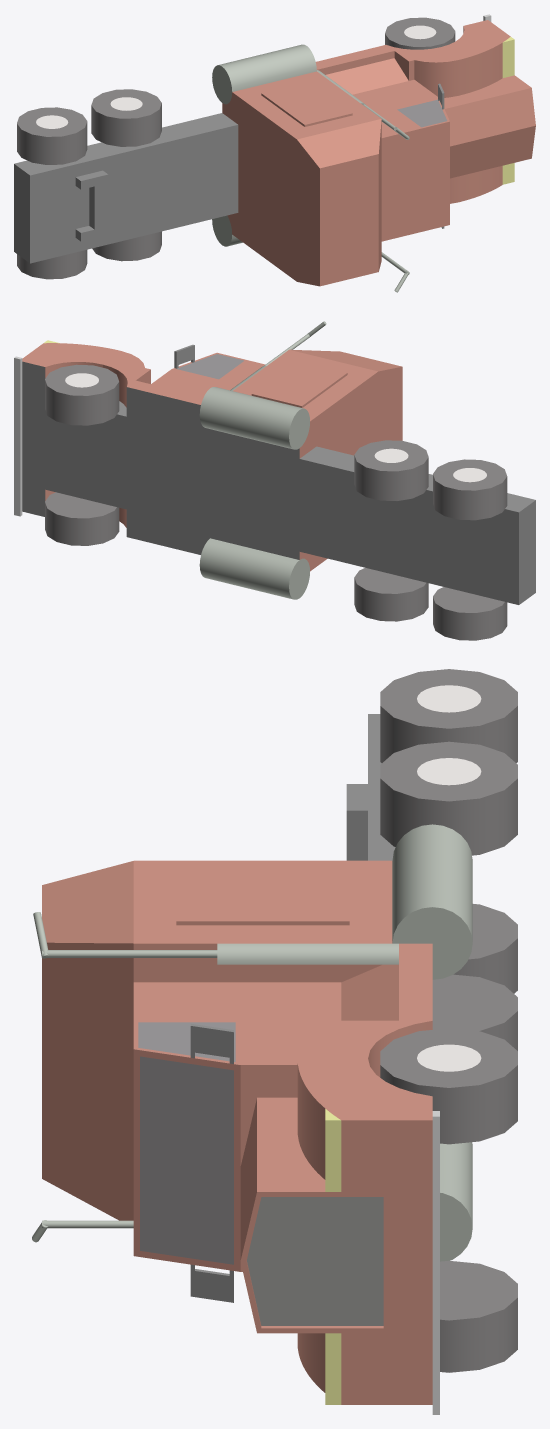
Rendered from truck_2.dae.
3 views of the same model, one above another, from view 1: azimuth 30°, elevation 25°; view 2: azimuth 150°, elevation 25°; view 3: azimuth 270°, elevation 25° (orthographic). The views are drawn at different scales.
Visible parts, largest first — view 1: instance_0, instance_0_017, instance_0_010, instance_0_002, instance_0_013, instance_0_027, instance_0_001, instance_0_004; view 2: instance_0_017, instance_0_010, instance_0, instance_0_002, instance_0_034, instance_0_013, instance_0_027, instance_0_004; view 3: instance_0, instance_0_010, instance_0_027, instance_0_024, instance_0_002, instance_0_004, instance_0_013, instance_0_017, instance_0_030, instance_0_001, instance_0_034.
Boxes of the visible parts, box(x1,y1,x2,y2) form: instance_0: box(222, 20, 535, 286); instance_0_017: box(14, 113, 238, 263); instance_0_010: box(17, 17, 455, 279); instance_0_002: box(212, 44, 316, 246); instance_0_013: box(36, 25, 436, 128); instance_0_027: box(397, 99, 447, 127); instance_0_001: box(502, 37, 514, 184); instance_0_004: box(317, 70, 409, 292); instance_0_017: box(22, 361, 535, 604); instance_0_010: box(45, 364, 507, 640); instance_0: box(22, 343, 402, 571); instance_0_002: box(199, 387, 309, 599); instance_0_034: box(14, 356, 22, 516); instance_0_013: box(65, 373, 486, 482); instance_0_027: box(176, 354, 243, 379); instance_0_004: box(230, 321, 326, 390); instance_0: box(42, 860, 432, 1404); instance_0_010: box(380, 669, 517, 1372); instance_0_027: box(138, 1022, 235, 1264); instance_0_024: box(247, 1197, 383, 1325); instance_0_002: box(392, 824, 472, 1261); instance_0_004: box(32, 912, 398, 1242); instance_0_013: box(417, 685, 481, 1071); instance_0_017: box(346, 714, 395, 860); instance_0_030: box(190, 1023, 233, 1302); instance_0_001: box(325, 1109, 341, 1404); instance_0_034: box(432, 1111, 439, 1414).
Bounding box in the file's own units: 2746 × 983 × 1211.
